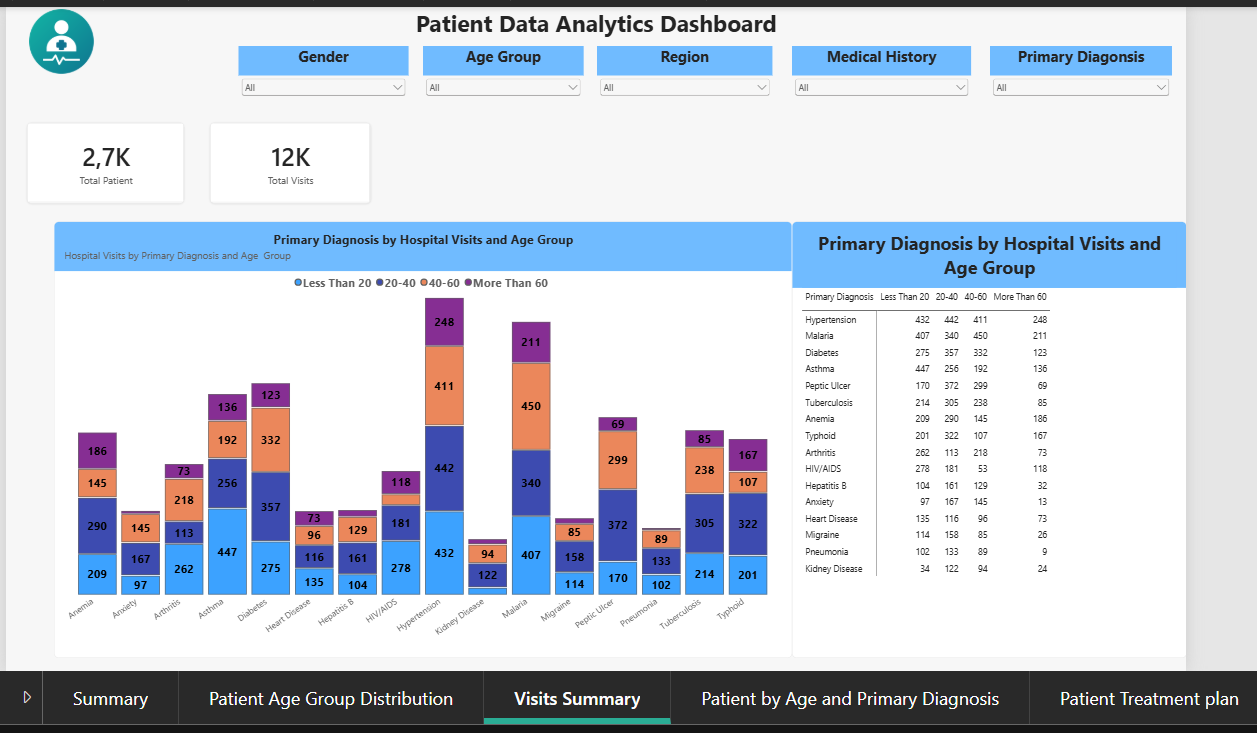

This screenshot's page, from the dashboard's own definition file:
{"tool":"powerbi","page":{"name":"Visits Summary","canvas":[1920,1080],"ordinal":2},"visuals":[{"type":"columnChart","title":"Primary Diagnosis by Hospital Visits  and Age Group","fields":{"Category":["Patient Data.Primary Diagnosis"],"Series":["Age Group Sorting.Age  Group"],"Y":["Sum(Patient Data.Hospital Visits)"]},"box":[78.1,348.9,1200.4,710],"z":0},{"type":"textbox","box":[0,0,1920.1,87.8],"z":1000},{"type":"slicer","title":"Medical History","fields":{"Values":["Patient Data.Medical Histpory"]},"box":[1278.5,63.4,291.6,121.5],"z":2000},{"type":"slicer","title":"Region","fields":{"Values":["Patient Data.Region"]},"box":[961.3,63.4,285.6,121.5],"z":4000},{"type":"slicer","title":"Age Group","fields":{"Values":["Age Group Sorting.Age  Group"]},"box":[678.3,63.4,261.3,121.5],"z":5000},{"type":"slicer","title":"Primary Diagonsis","fields":{"Values":["Patient Data.Primary Diagnosis"]},"box":[1600.5,63.4,296.2,122.6],"z":6000},{"type":"slicer","title":"Gender","fields":{"Values":["Patient Data.Gender"]},"box":[378.2,63.4,276.5,121.5],"z":7000},{"type":"cardVisual","title":"Total Patient","fields":{"Data":["CountNonNull(Patient Data.Patient ID)"]},"box":[33.4,188.4,256.2,131.8],"z":9000},{"type":"cardVisual","title":"Total Patient","fields":{"Data":["Sum(Patient Data.Hospital Visits)"]},"box":[331.1,188.4,261.1,131.8],"z":10000},{"type":"pivotTable","title":"Primary Diagnosis by Hospital Visits  and Age Group","fields":{"Columns":["Age Group Sorting.Age  Group"],"Rows":["Patient Data.Primary Diagnosis"],"Values":["Sum(Patient Data.Hospital Visits)"]},"box":[1278.5,348.9,641.7,710],"z":14001},{"type":"image","box":[34.2,0,112.2,112.2],"z":14002}]}

Visuals, with their boxes on the page's 1920x1080 design canvas (x1, y1, x2, y2). These are canvas units, not pixel positions in the 1257x733 screenshot, which may show the page scaled, cropped or inside an application window:
"Primary Diagnosis by Hospital Visits  and Age Group" columnChart: locate(78, 349, 1278, 1059)
textbox: locate(0, 0, 1920, 88)
"Medical History" slicer: locate(1278, 63, 1570, 185)
"Region" slicer: locate(961, 63, 1247, 185)
"Age Group" slicer: locate(678, 63, 940, 185)
"Primary Diagonsis" slicer: locate(1600, 63, 1897, 186)
"Gender" slicer: locate(378, 63, 655, 185)
"Total Patient" cardVisual: locate(33, 188, 290, 320)
"Total Patient" cardVisual: locate(331, 188, 592, 320)
"Primary Diagnosis by Hospital Visits  and Age Group" pivotTable: locate(1278, 349, 1920, 1059)
image: locate(34, 0, 146, 112)
